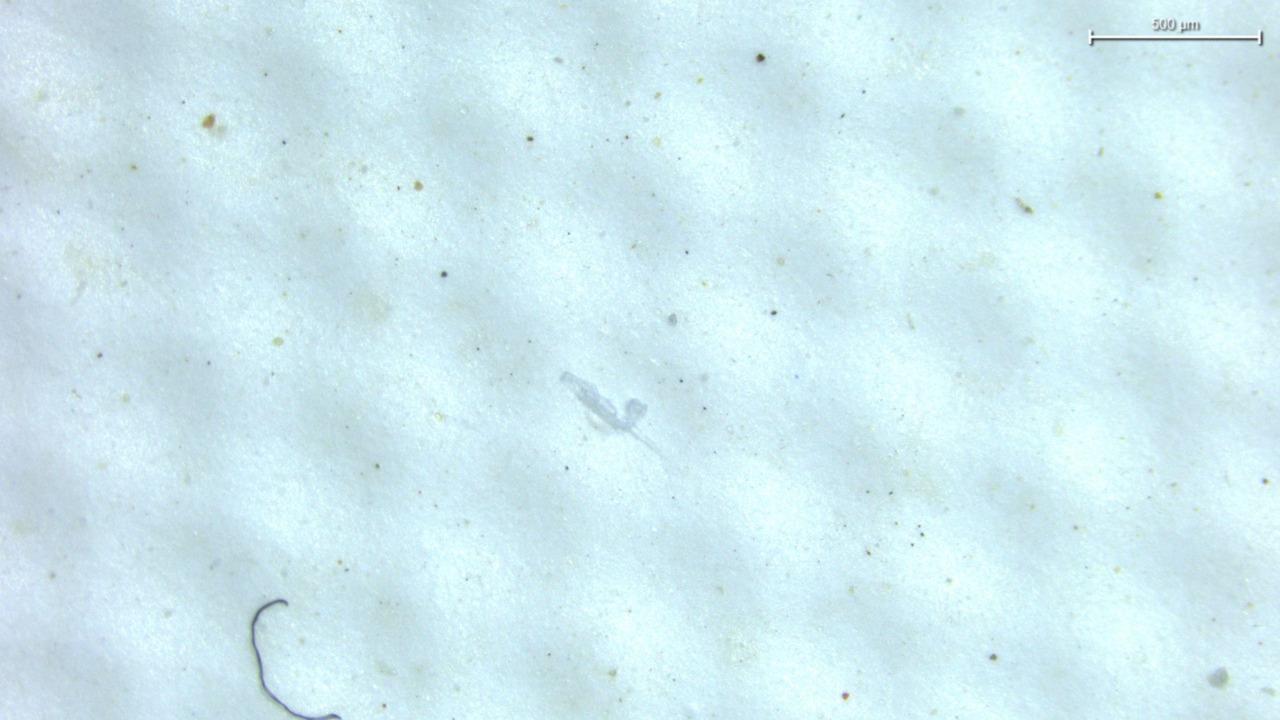microplastic_fragment: (560, 372, 647, 430)
